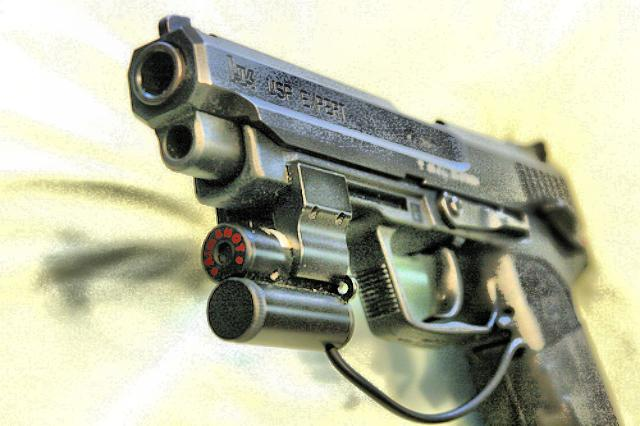pistol: (125, 13, 619, 422)
